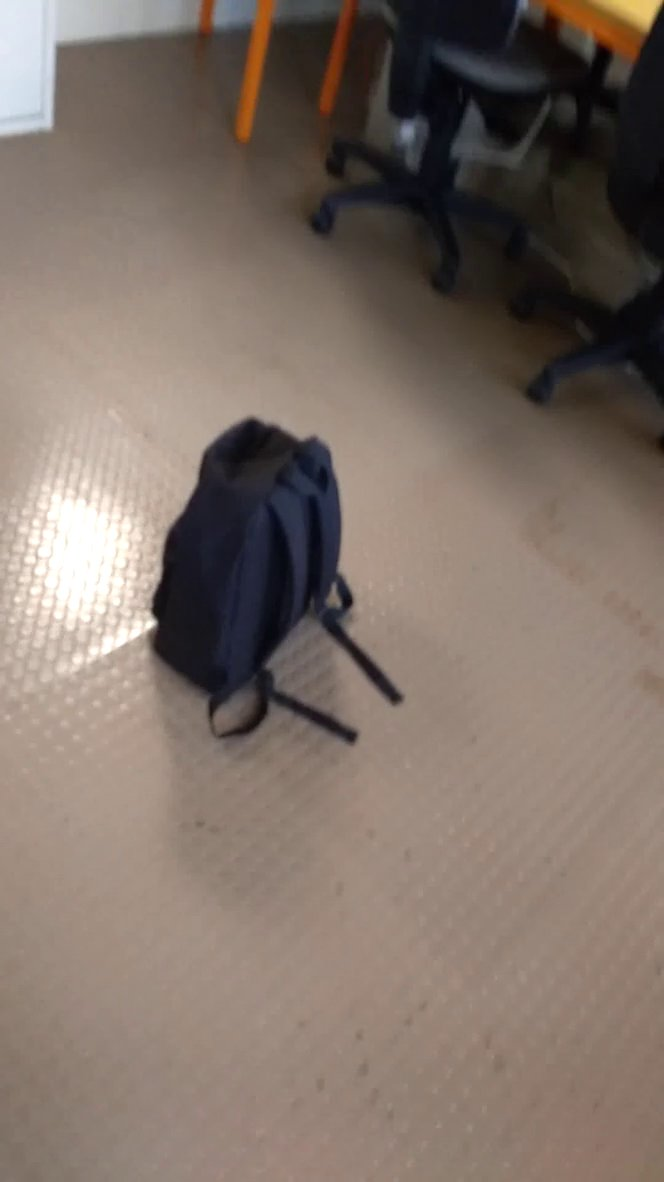bag: (143, 411, 418, 761)
